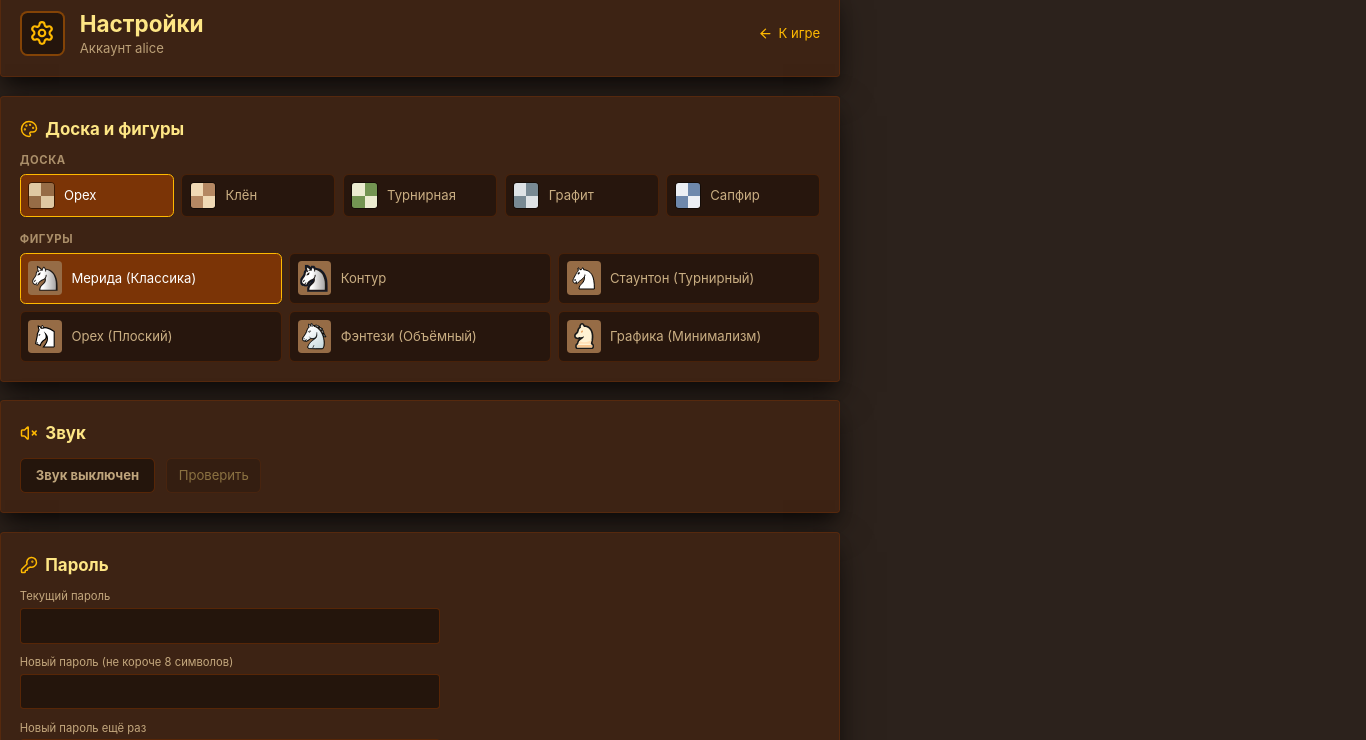
Test case: Settings: смена пароля › пароль new-password-1 / new-password-2 отклоняется до запроса
Type "old-password" into the password field labelled "Текущий пароль" at [230, 626], box [20,608,440,644]
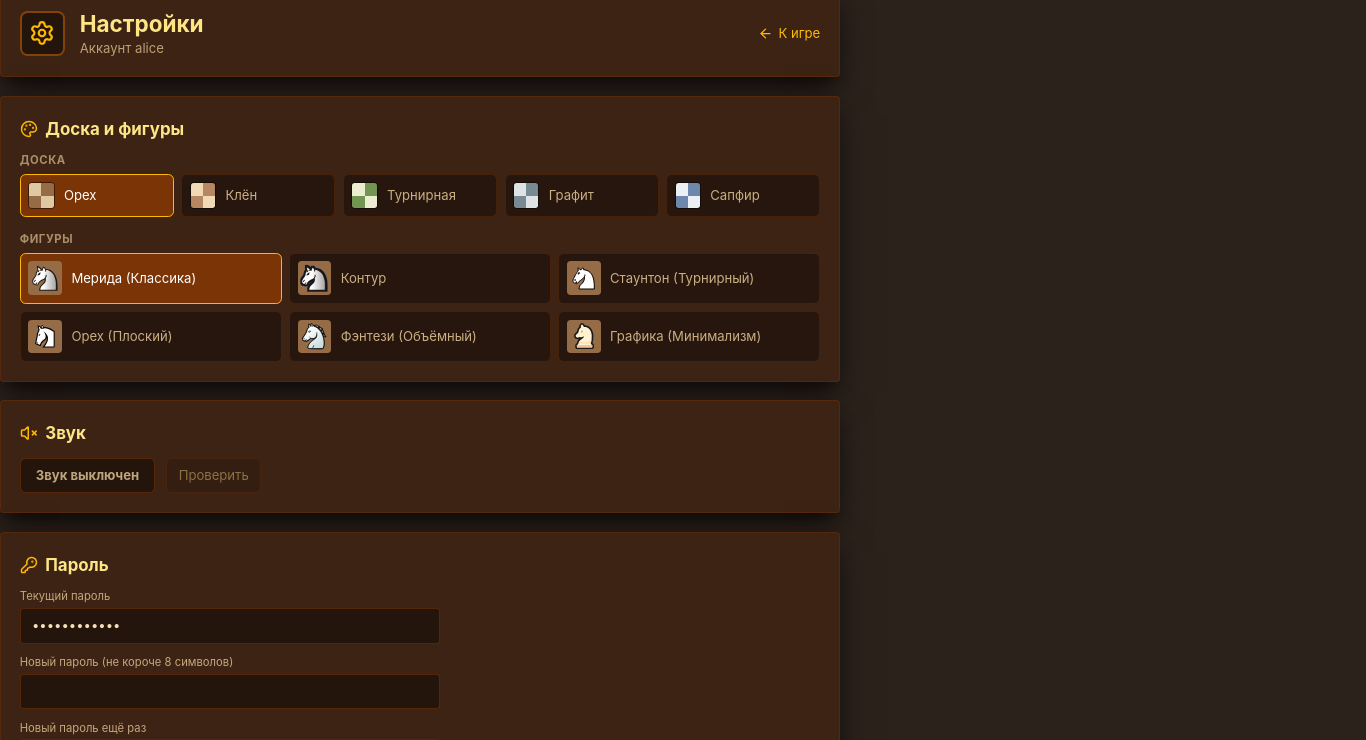
Type "new-password-1" into the password field labelled "Новый пароль (не короче 8 символов)" at [230, 691], box [20,674,440,709]
(page scrolled)
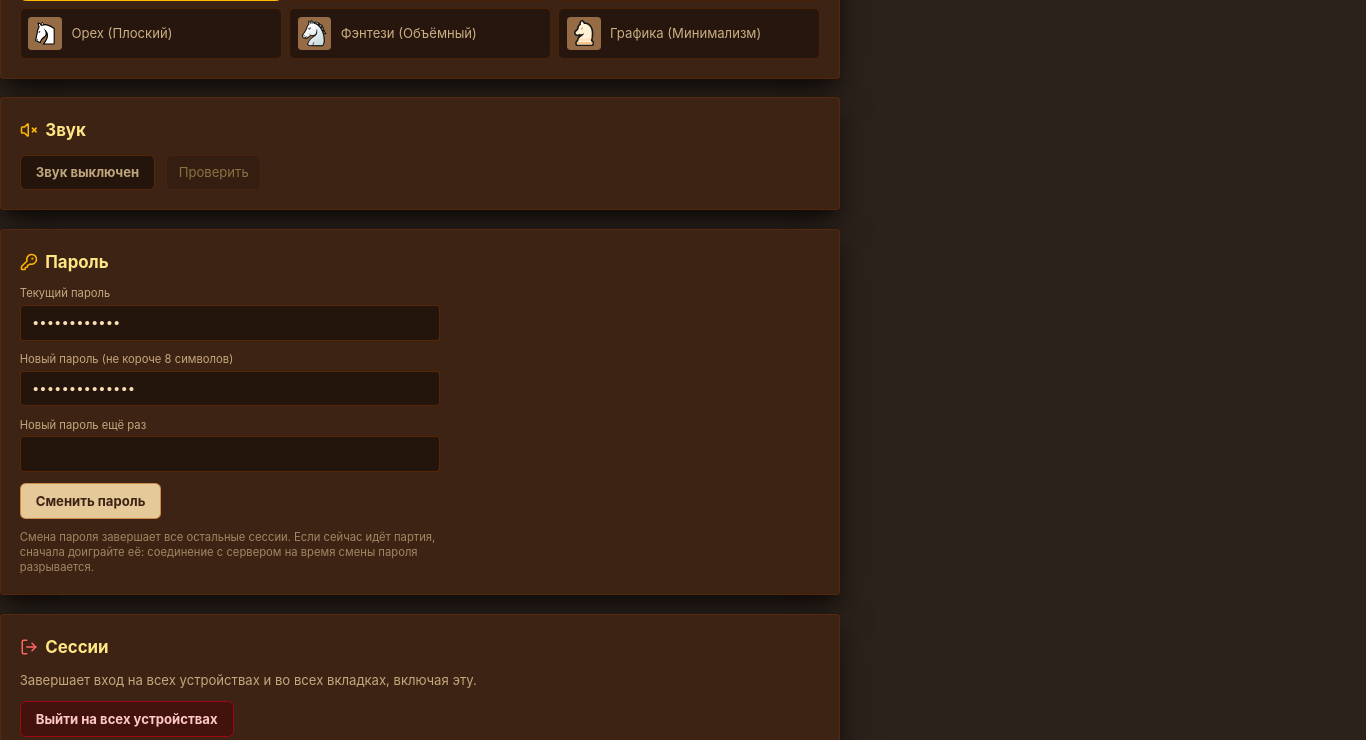
Type "new-password-2" into the password field labelled "Новый пароль ещё раз" at [230, 454], box [20,436,440,472]
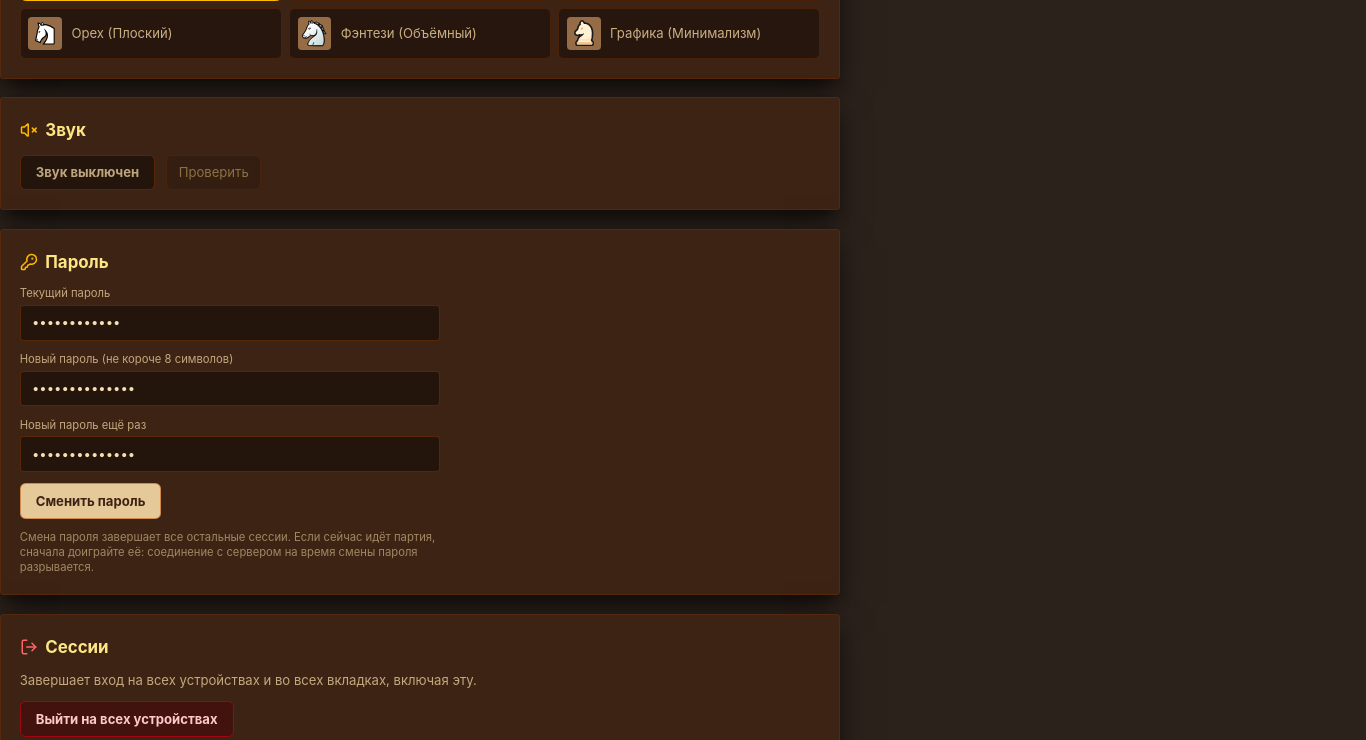
Click the button "Сменить пароль" at [91, 501], box [20,483,162,519]
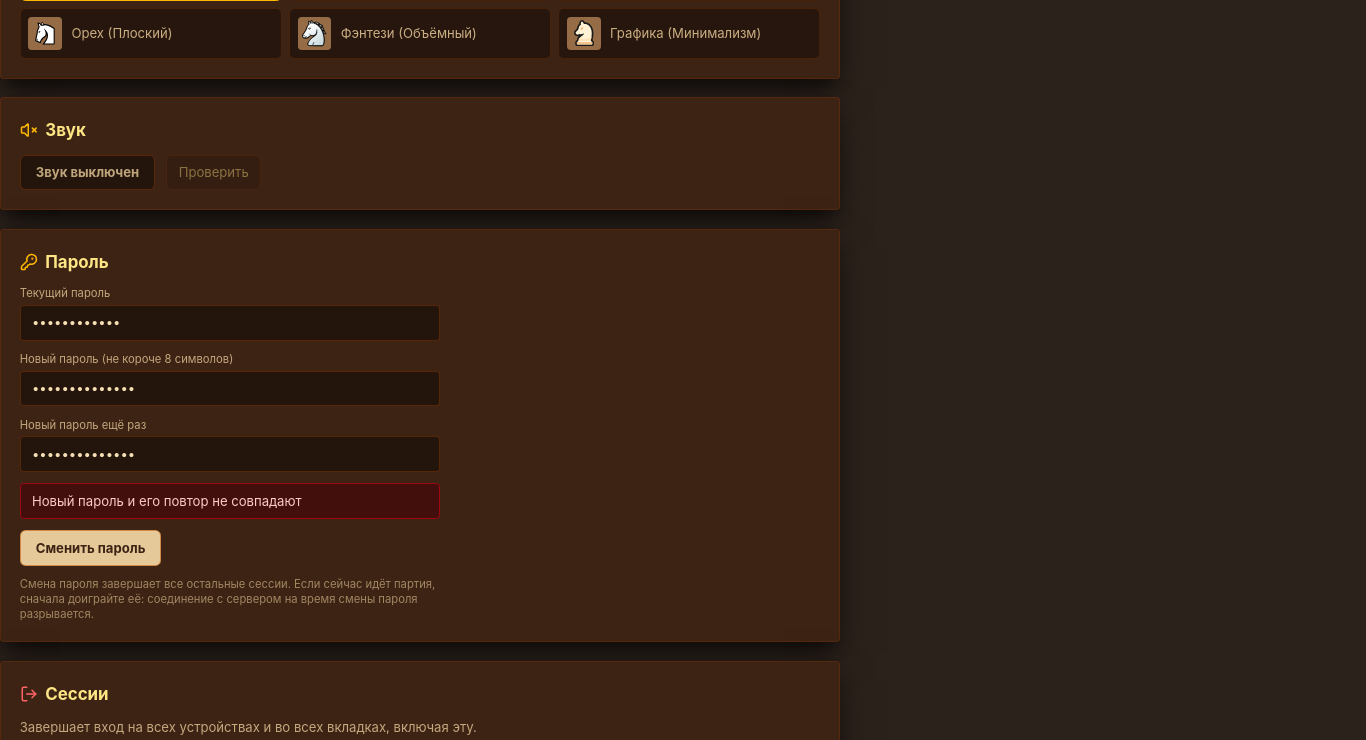
Check: the message shows "не совпадают", box [32,493,302,509]
